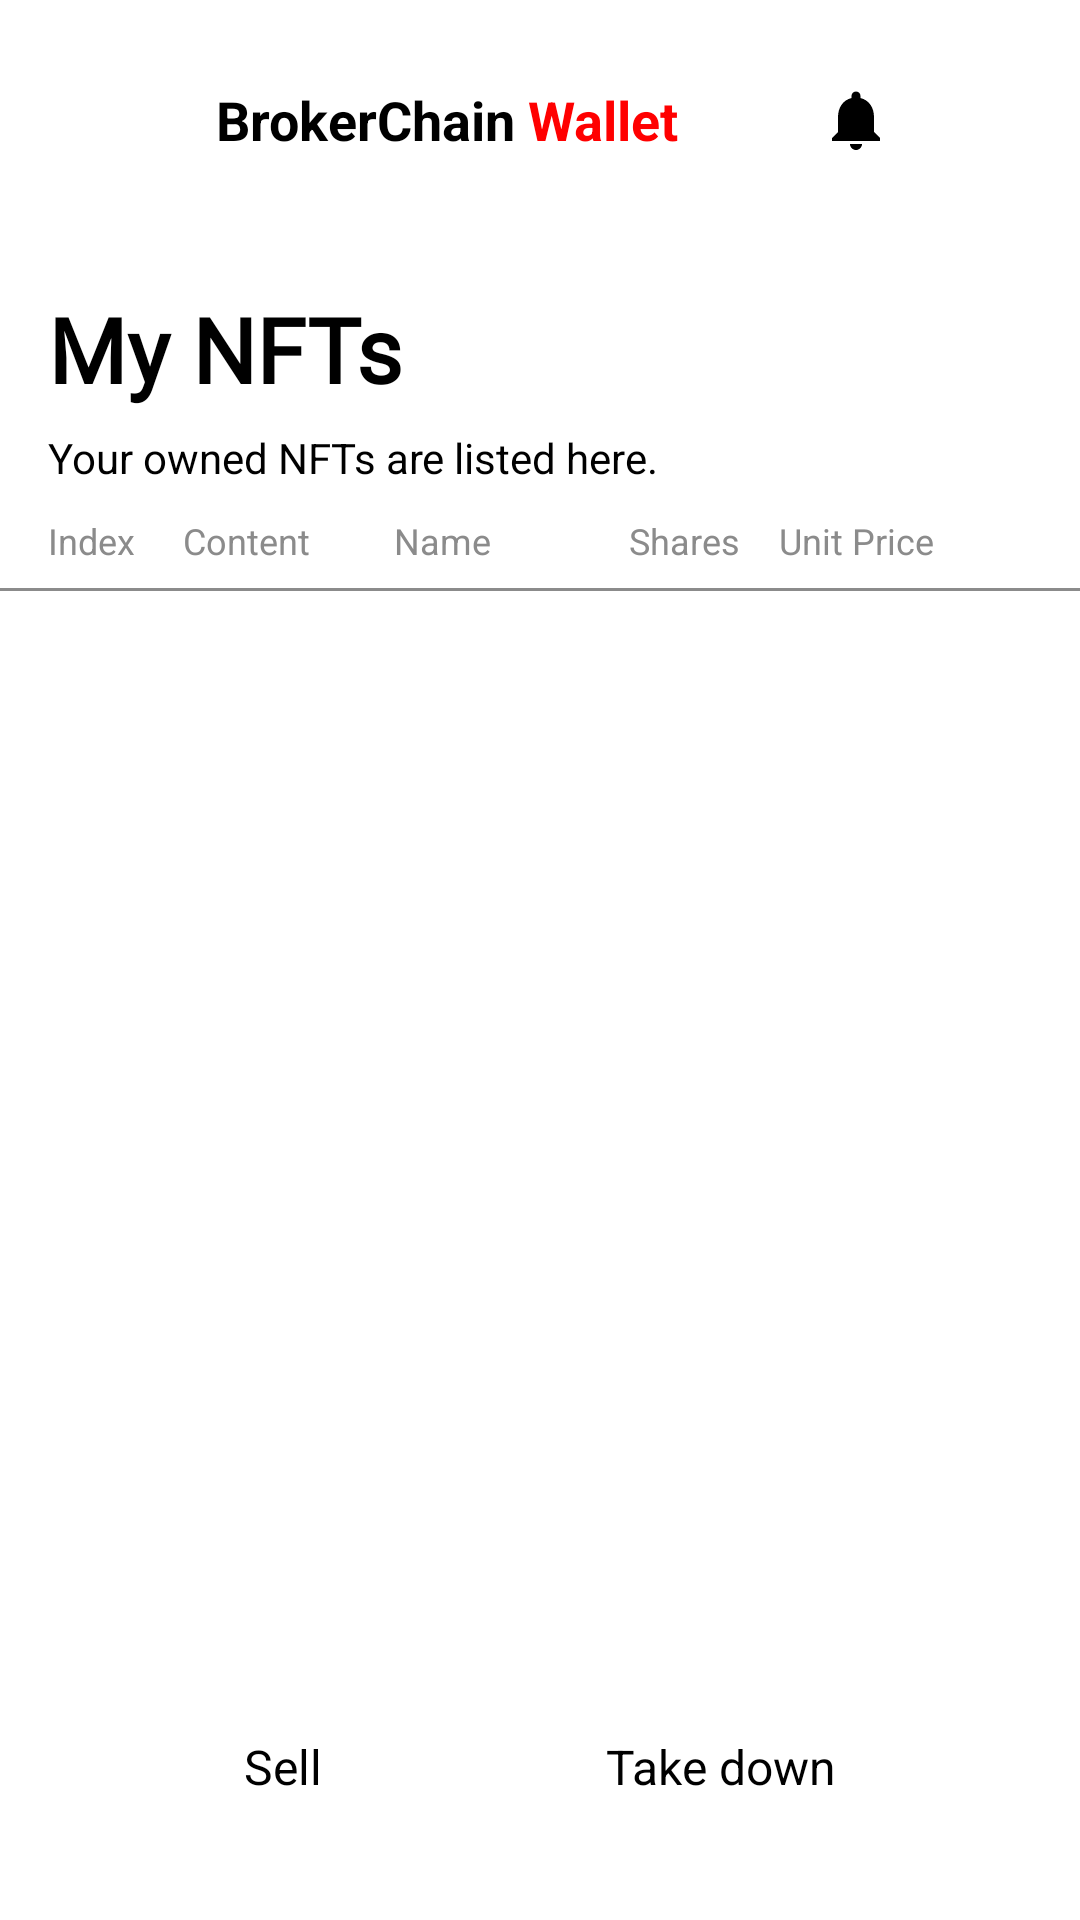

Screen size 1080 × 1920. Icon name, then its center in pixels as [x,y]:
Notifications: [856,120]
